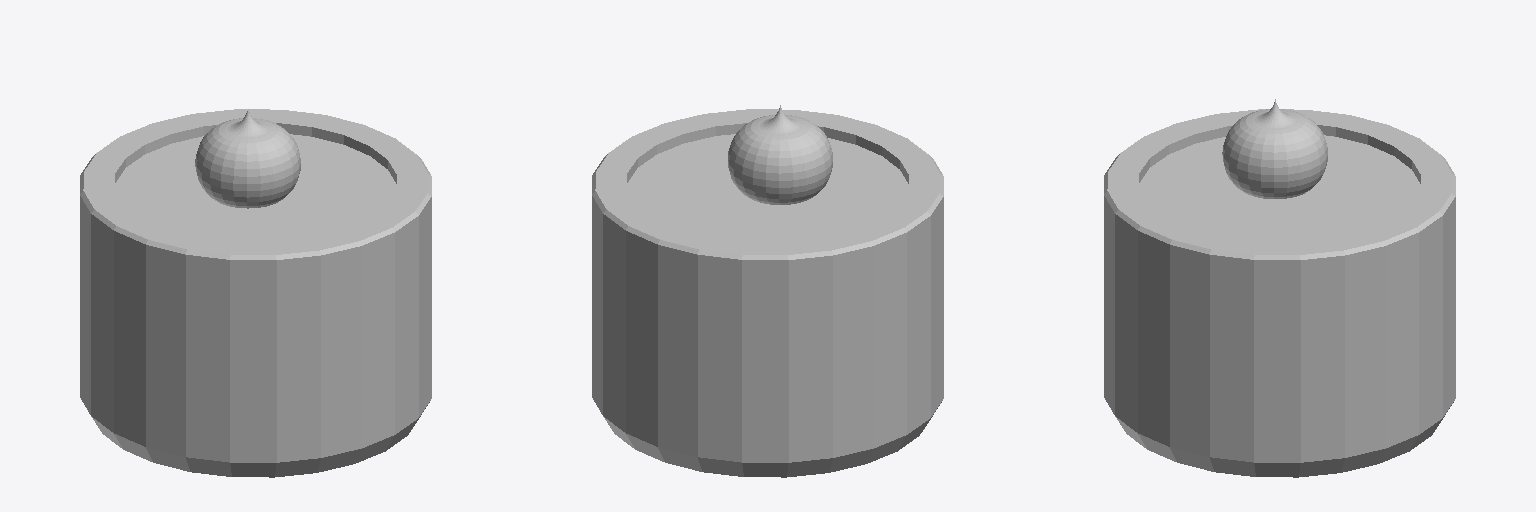
File: shumai x1.obj
3 views of the same model, side by side, from view 1: azimuth 30°, elevation 25°; view 2: azimuth 150°, elevation 25°; view 3: azimuth 270°, elevation 25° (orthographic).
Visible parts, largest first — view 1: Mesh1 shaomai1 Model, Mesh2 shaomai1 Model; view 2: Mesh1 shaomai1 Model, Mesh2 shaomai1 Model; view 3: Mesh1 shaomai1 Model, Mesh2 shaomai1 Model.
Boxes of the visible parts, x1=… form: Mesh1 shaomai1 Model: x1=80, y1=109, x2=431, y2=477; Mesh2 shaomai1 Model: x1=195, y1=109, x2=300, y2=208; Mesh1 shaomai1 Model: x1=592, y1=109, x2=943, y2=477; Mesh2 shaomai1 Model: x1=728, y1=105, x2=832, y2=204; Mesh1 shaomai1 Model: x1=1104, y1=109, x2=1455, y2=477; Mesh2 shaomai1 Model: x1=1222, y1=99, x2=1327, y2=198.
Size of the model in its own units: 0.0463 by 0.0441 by 0.0463.